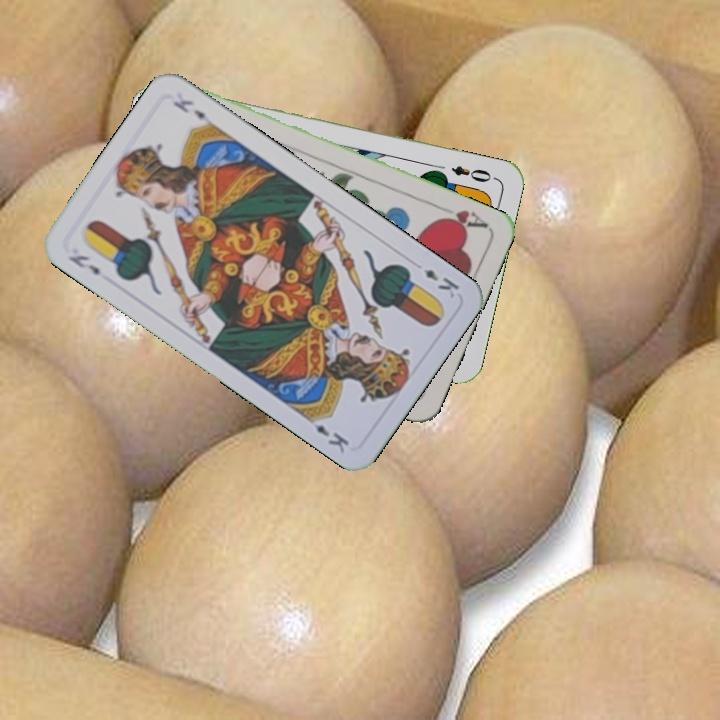EK: (420, 264, 462, 301), (64, 250, 103, 278)
EO: (447, 161, 494, 185)
HA: (434, 201, 491, 233)
